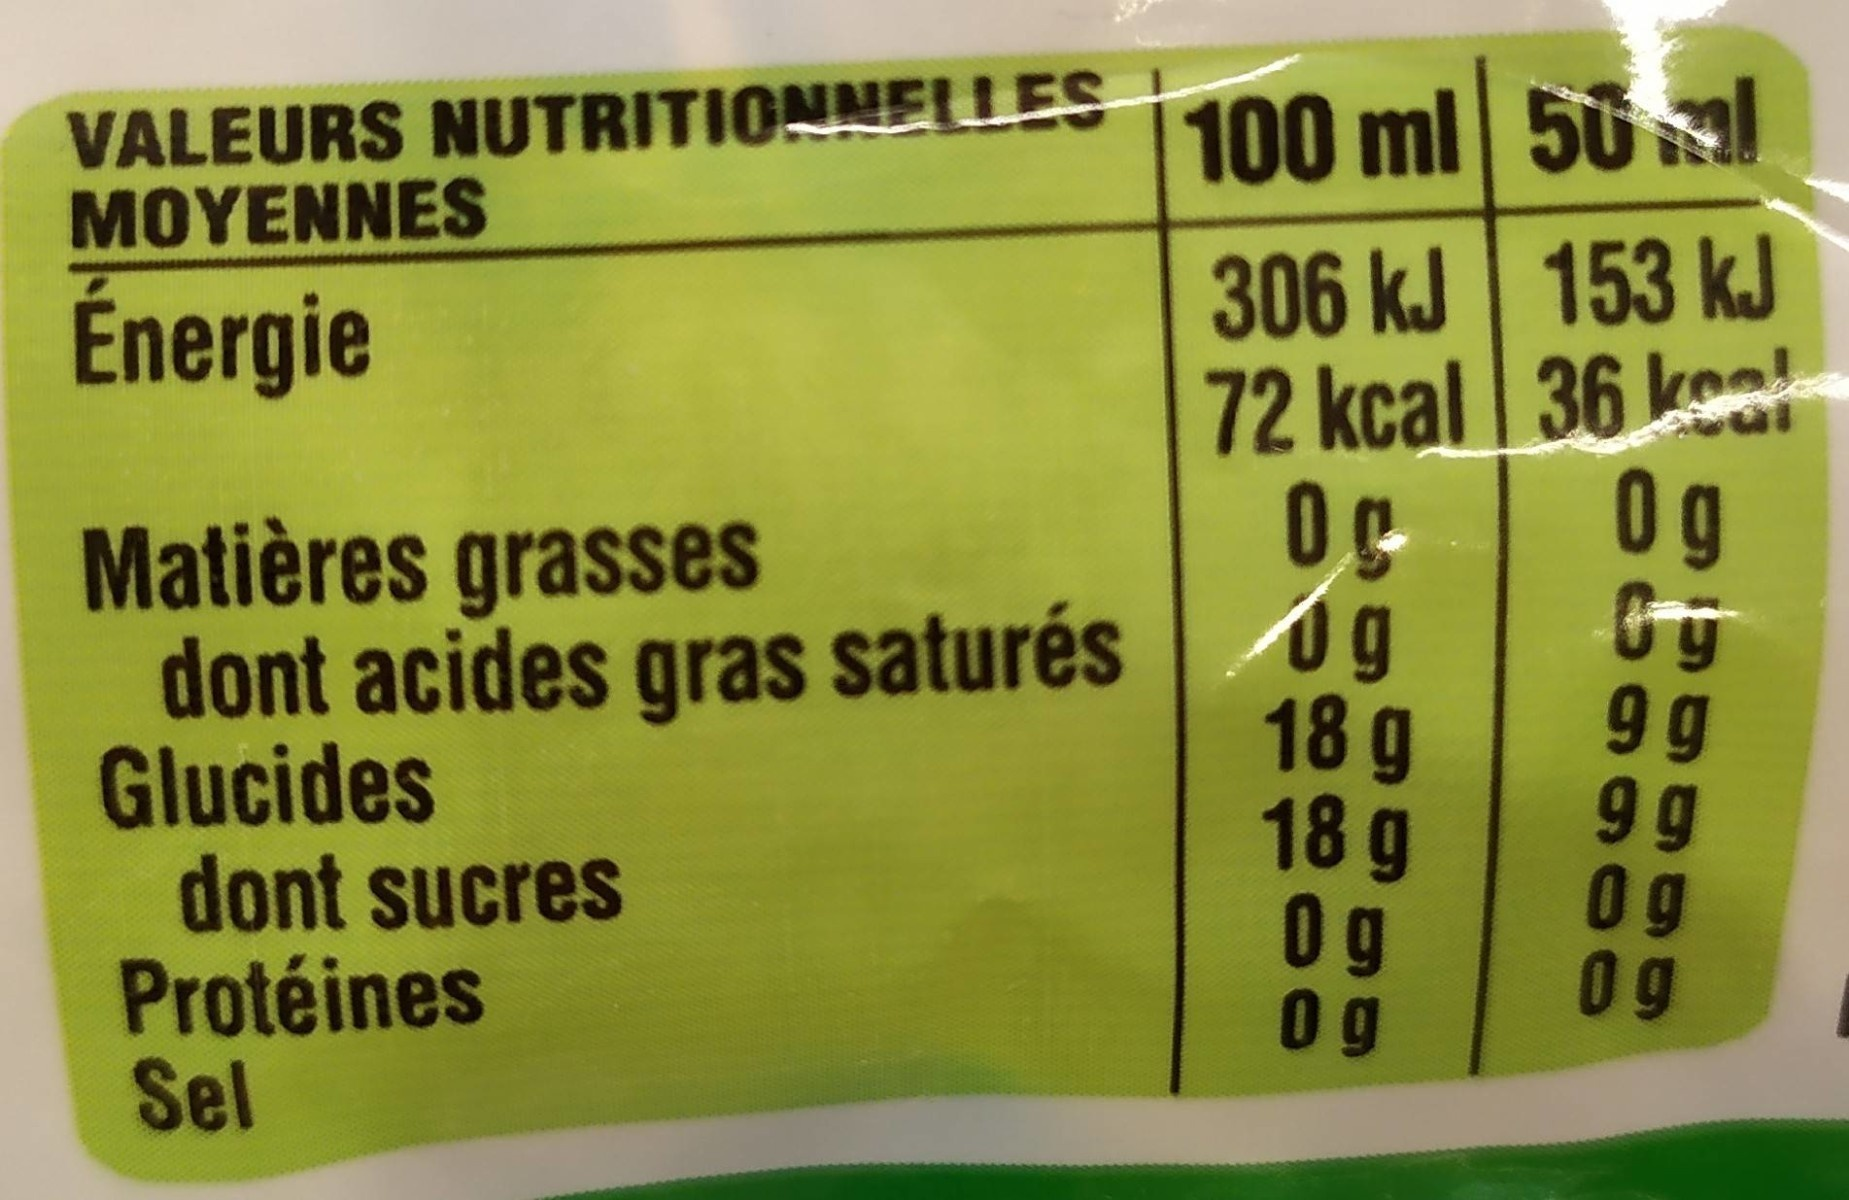column: (61, 67, 1129, 1129), (1186, 90, 1468, 1058), (1528, 73, 1791, 1029)
table: (1, 26, 1818, 1135)
